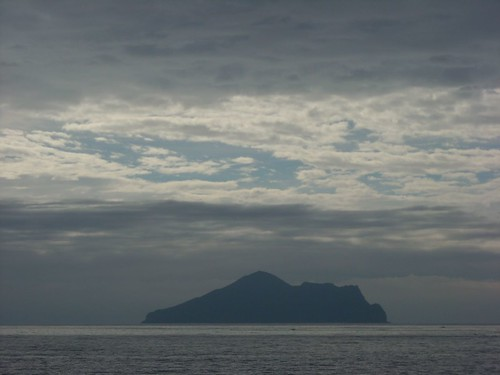turtleIsland: (144, 272, 386, 325)
